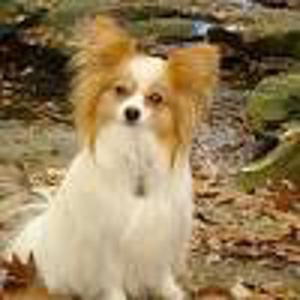yell: (0, 15, 220, 300)
